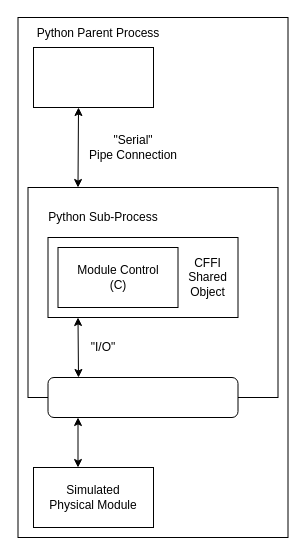
The diagram is 305 pixels wide and 555 high, and some of its shapes have lost their labels. The centre of each missing label's shape, as x and y in pixels:
Module-Agent: the point at 93,77
Shared Memory: the point at 142,397
